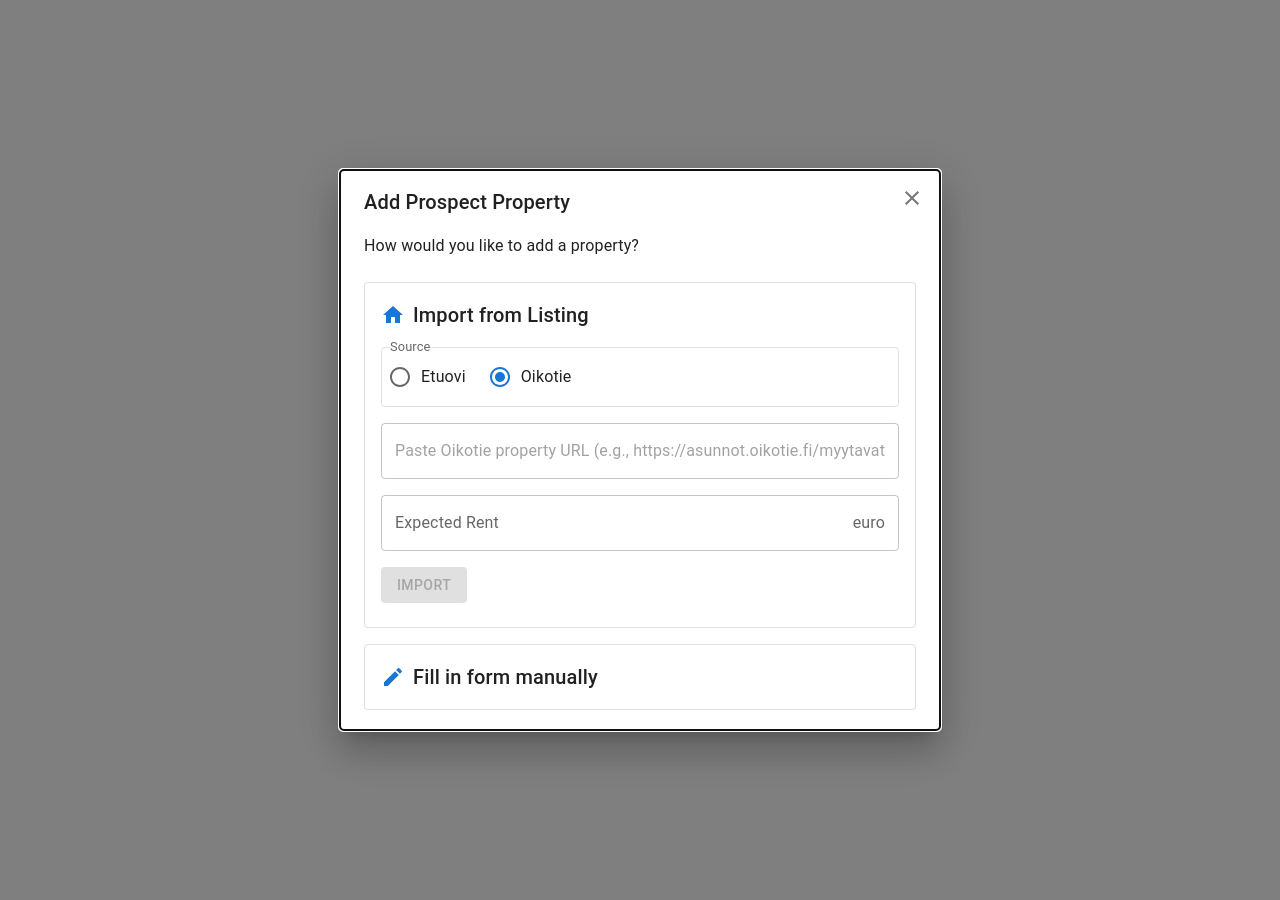
it: ProspectAddChoiceDialog › Etuovi Import › shows loading state during Etuovi import
// Switch to Etuovi (Oikotie is default)
Click the radio button labelled "Etuovi": (427, 377) x1=388 y1=365 x2=466 y2=389
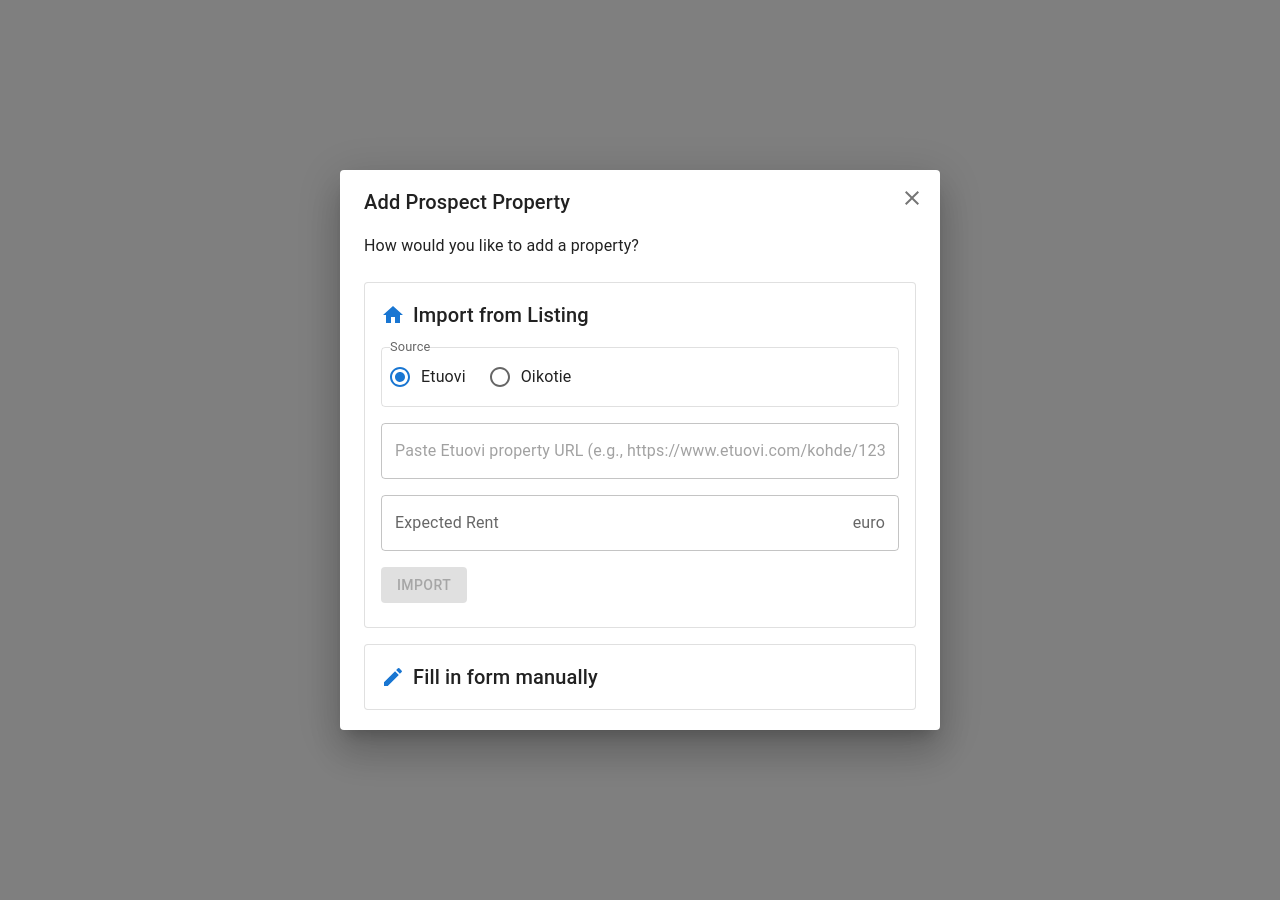
In the field: (640, 451) x1=381 y1=423 x2=899 y2=479, type "https://www.etuovi.com/kohde/12345"
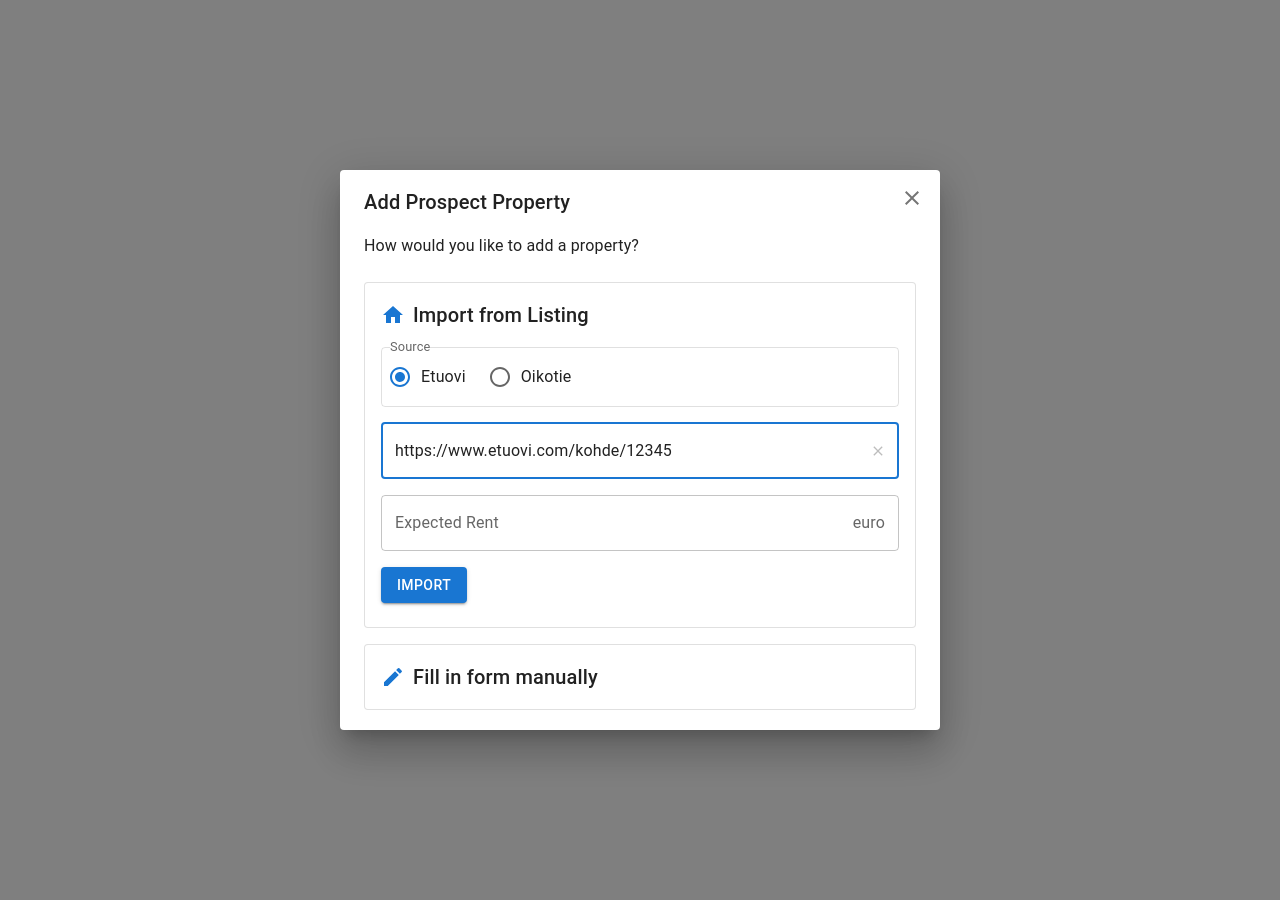
Click the button "Import": (424, 585) x1=381 y1=567 x2=467 y2=603
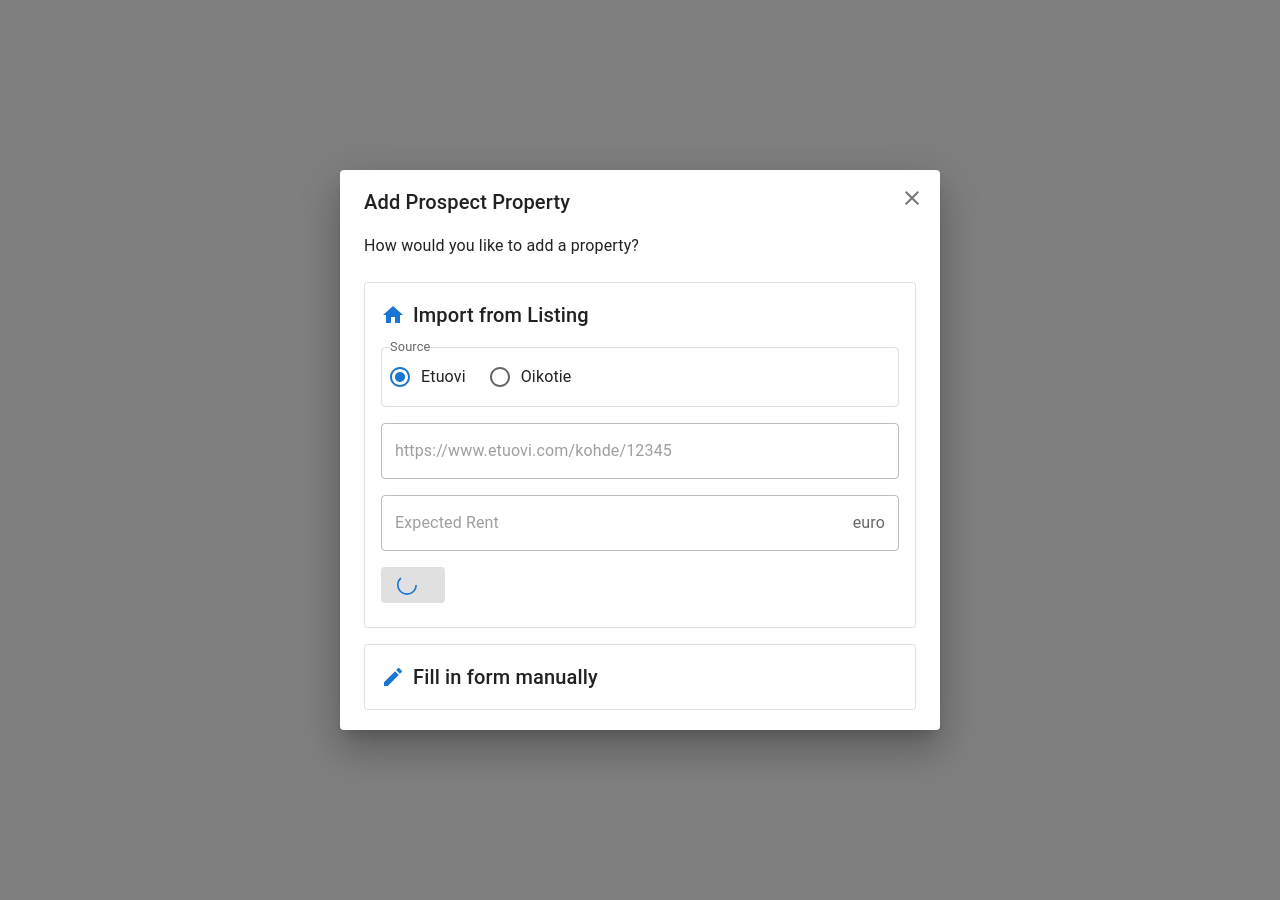
Expected: the progress indicator is shown, x1=397 y1=575 x2=417 y2=595
